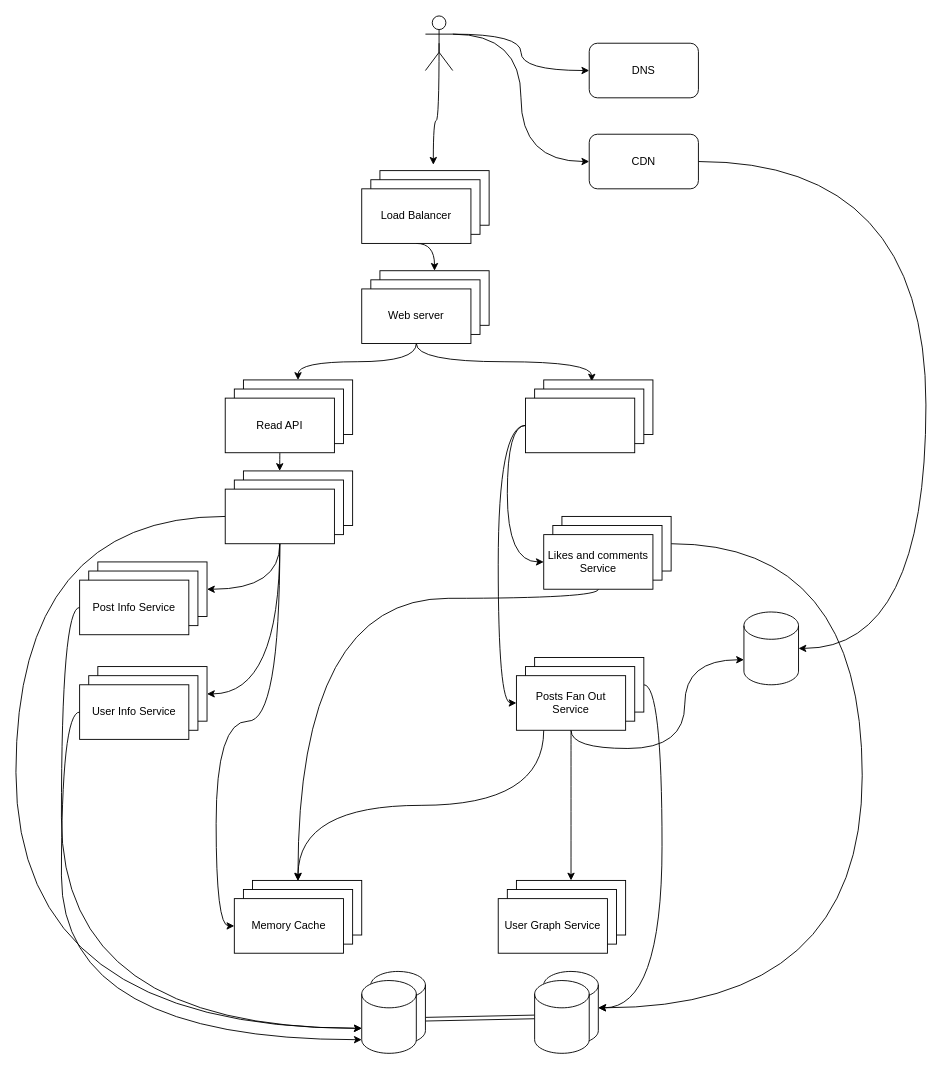
This 942x1069 diagram has some shape labels left out. Each missing label, with the centre of its shape:
Feed Service: point (279, 516)
Object Store: point (771, 648)
SQL Read Replicas: point (388, 1016)
SQL Write Master-slave: point (561, 1016)
User: point (439, 43)
Write API: point (580, 425)
